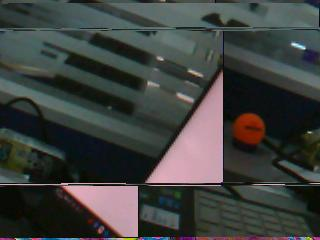oball: (233, 111, 265, 143)
